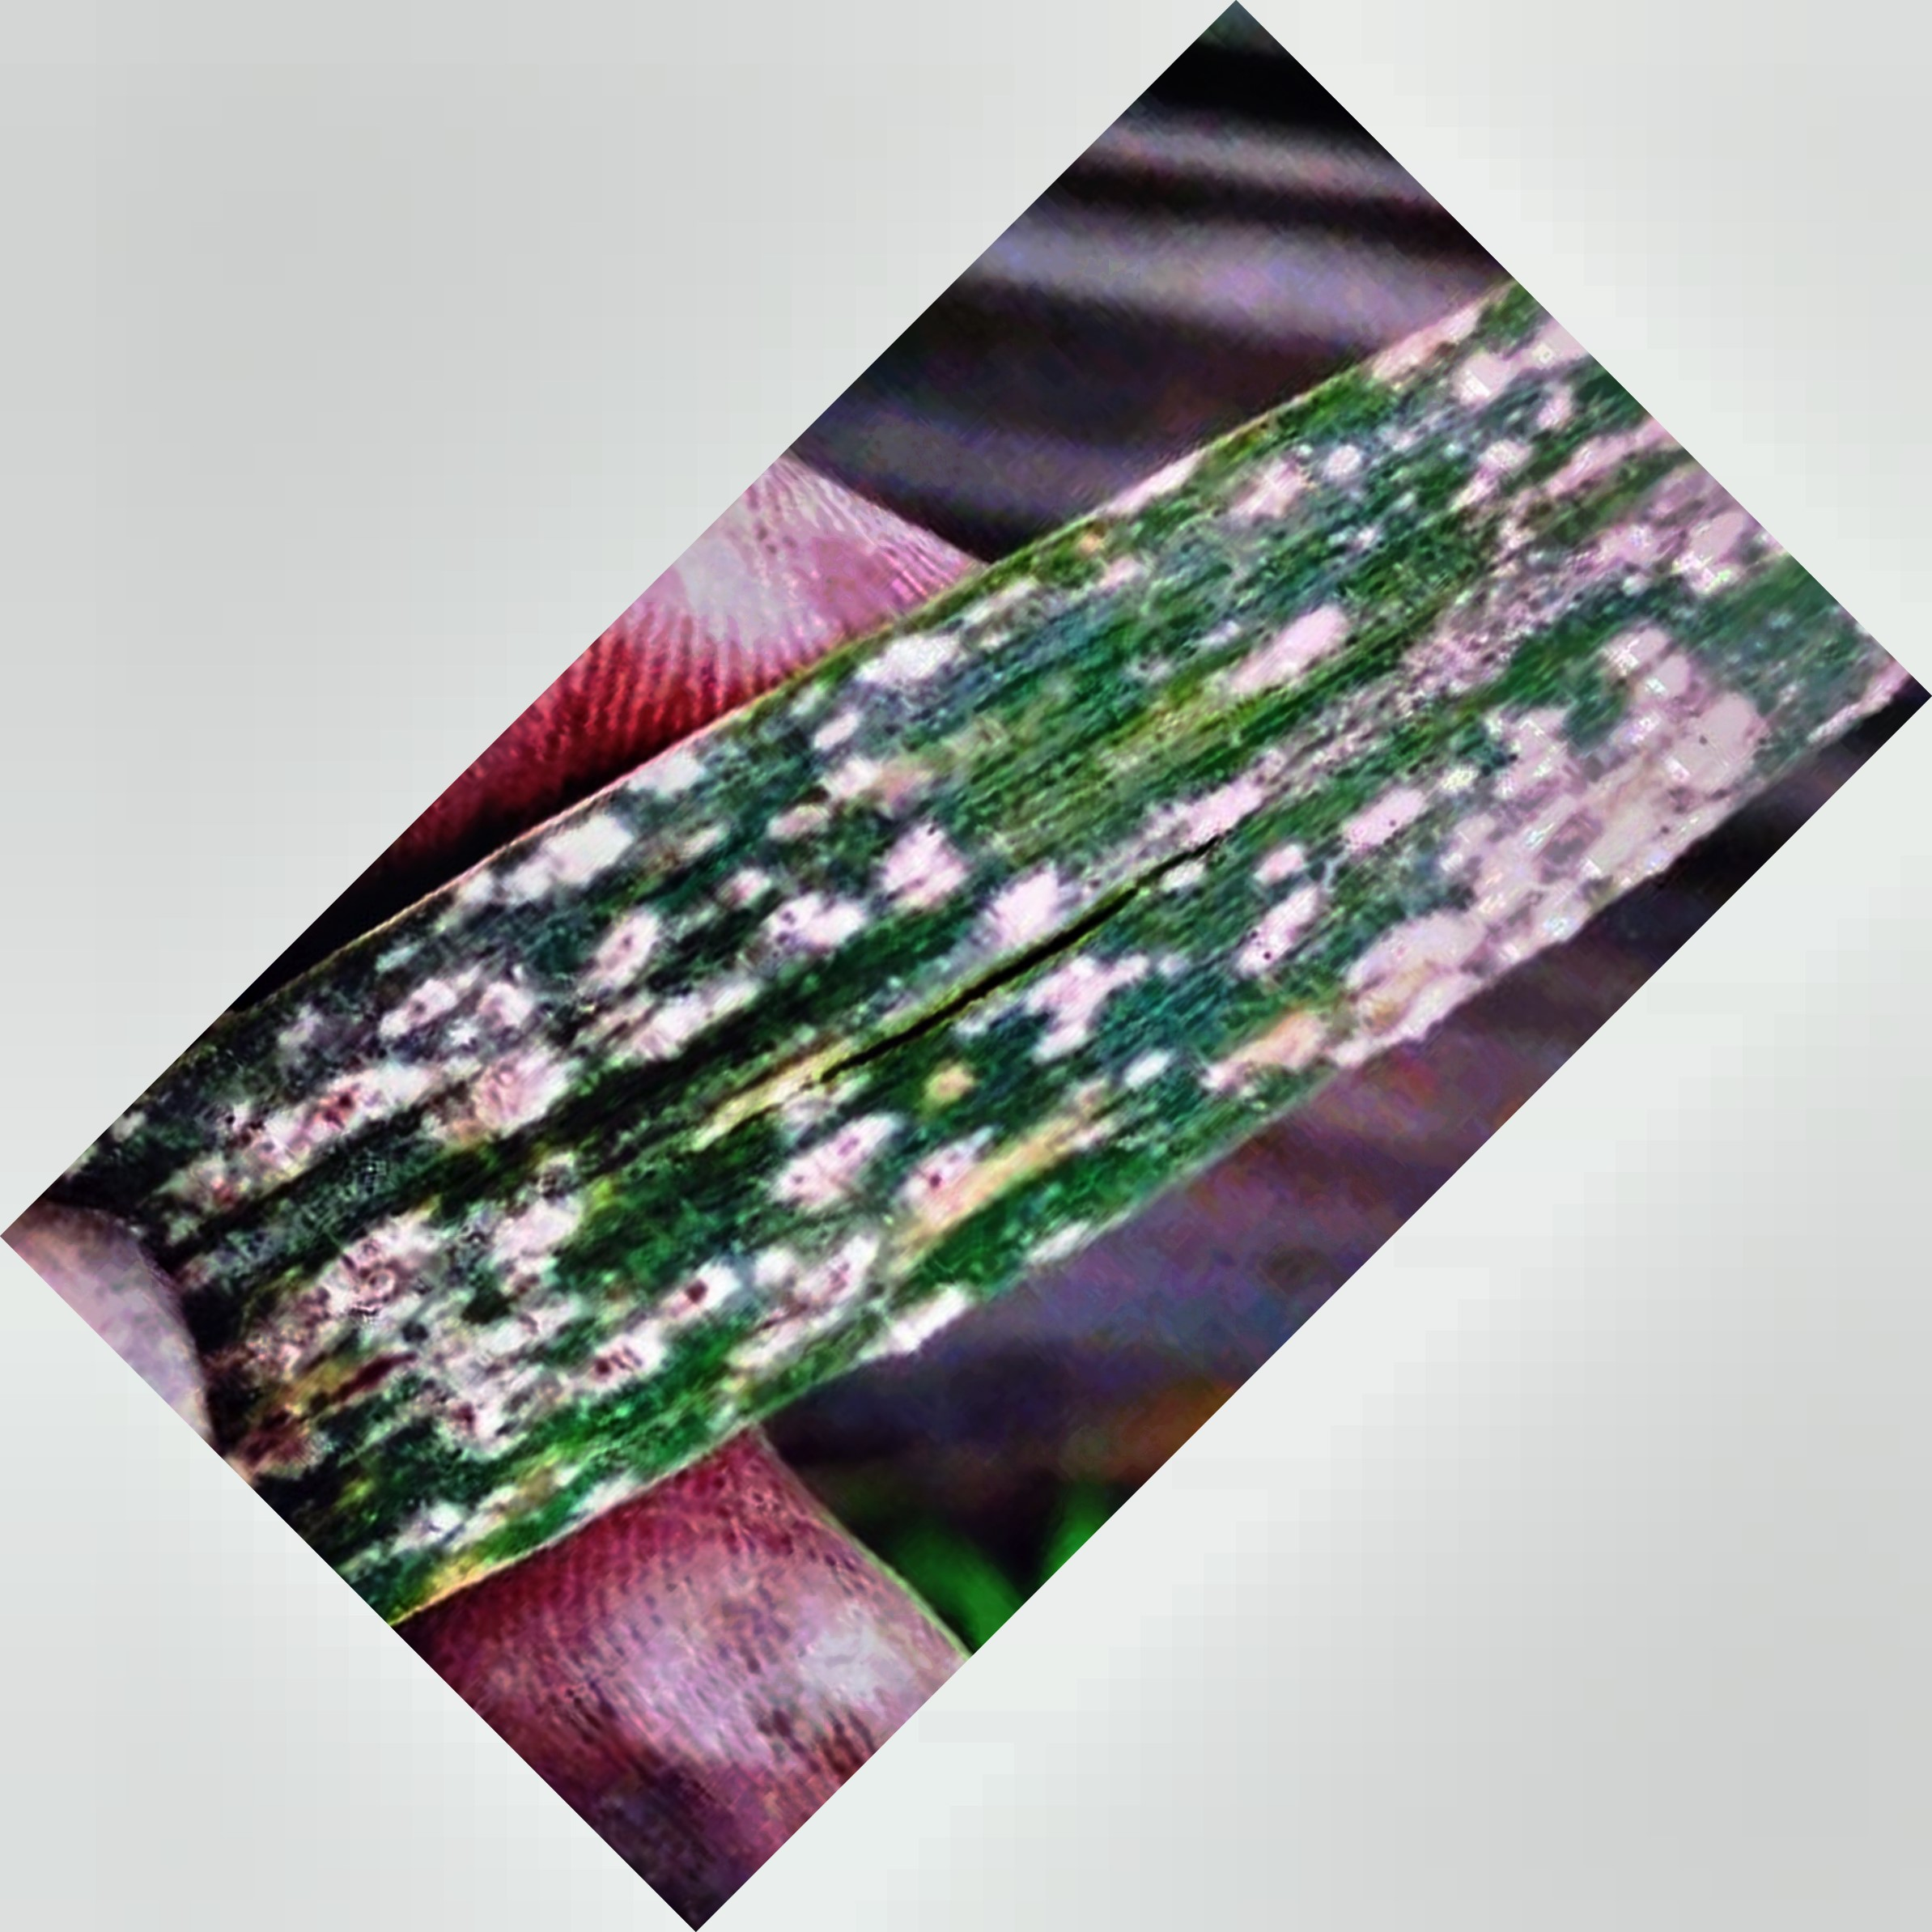Powdery Mildew: (285, 375, 1716, 1493)
